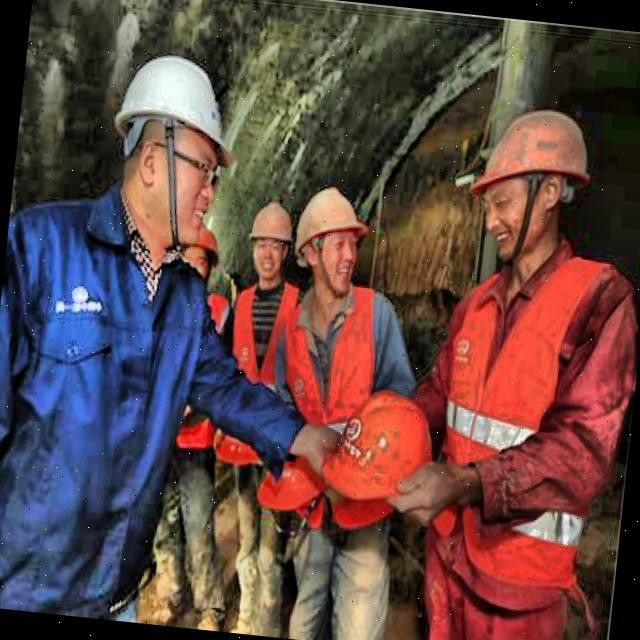helmet: (94, 44, 240, 260), (462, 100, 596, 266), (286, 175, 371, 308), (240, 191, 300, 296), (173, 220, 227, 294)
